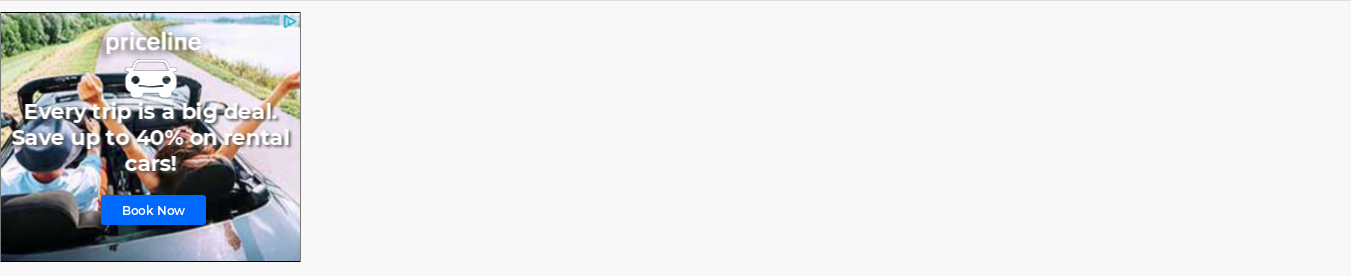fake_button: (88, 189, 221, 239)
